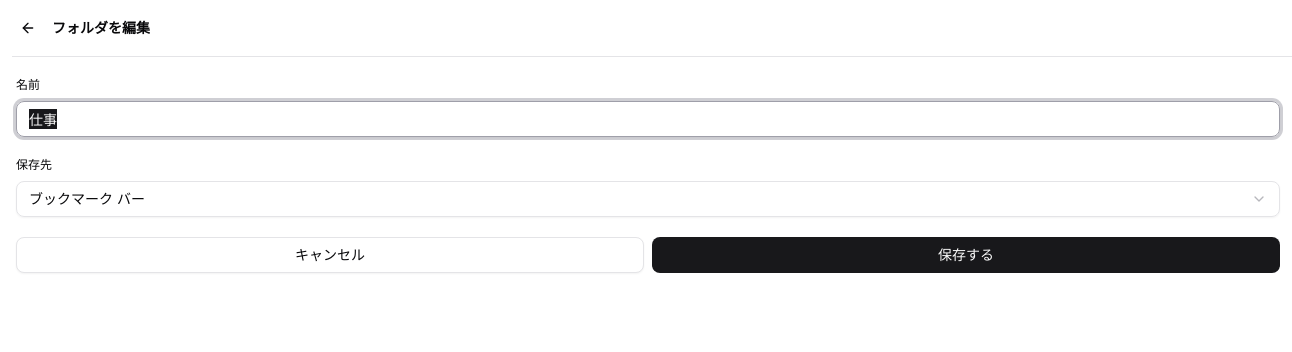
Test: shadcnのブックマーク編集画面 › 保存中の二重送信やキャンセルを防ぎ、失敗時も入力を残す
Replace the text in the field labelled "名前" with "更新後の名前" at (648, 119), box 16,101 -> 1280,137
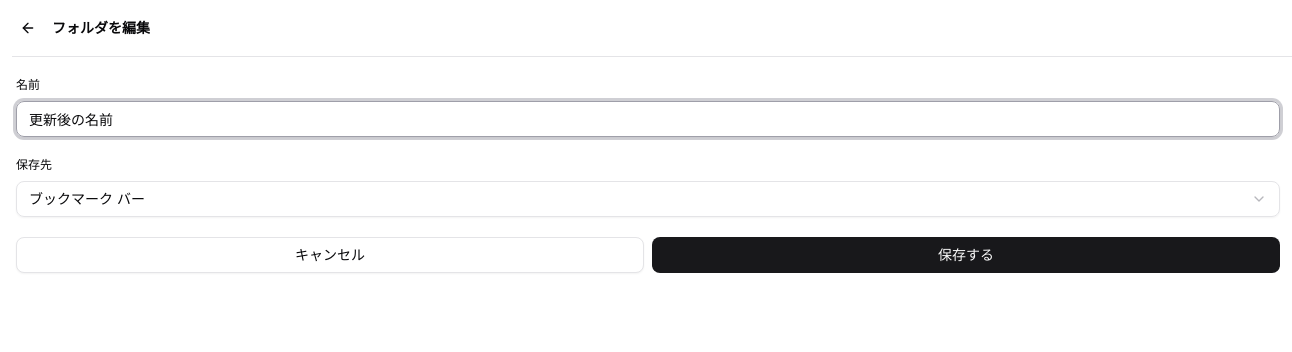
Click the button "保存する".
click(966, 255)  # box 652,237 -> 1280,273
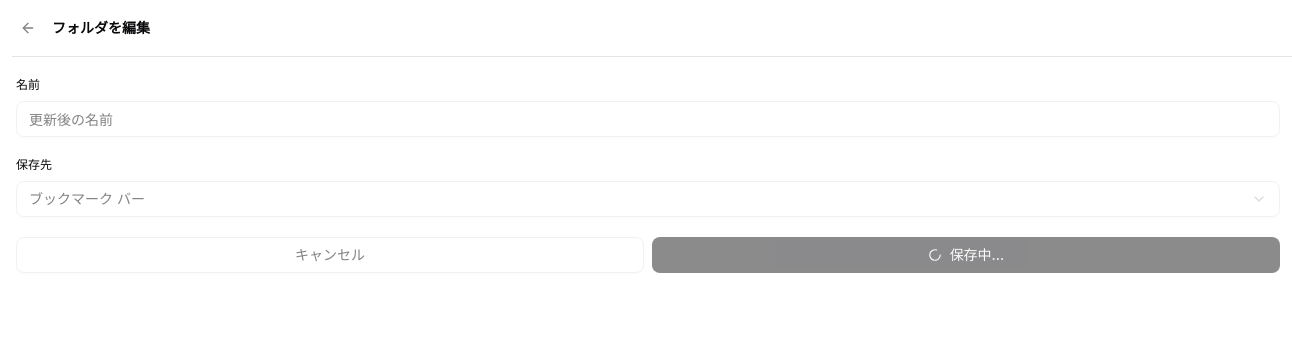
Expected: the button "保存中…" is disabled, 652,237 -> 1280,273
Expected: the button "キャンセル" is disabled, 16,237 -> 644,273
Expected: the button named "一覧に戻る" is disabled, 12,12 -> 44,44
Type keys "{Escape}{Control>}{Enter}{/Control}"
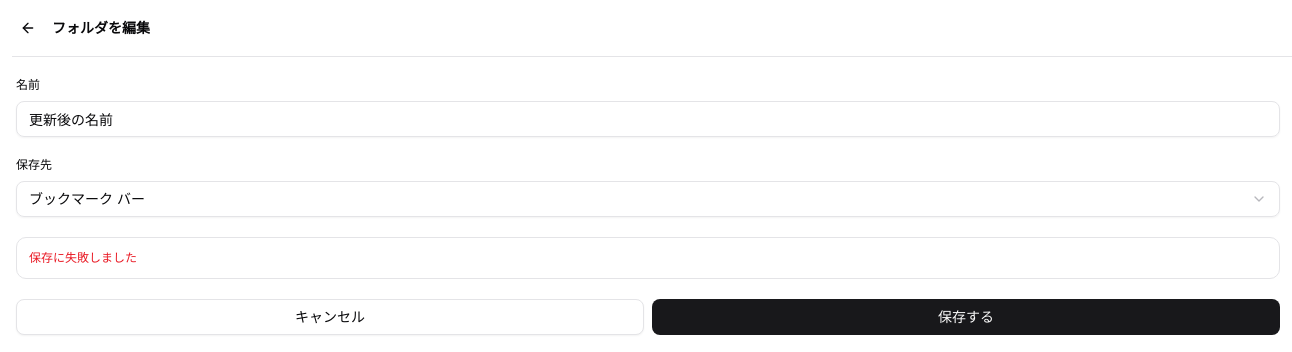
Expected: the message reads "保存に失敗しました", 29,250 -> 137,265
Expected: the button "保存する" is enabled, 652,299 -> 1280,335
